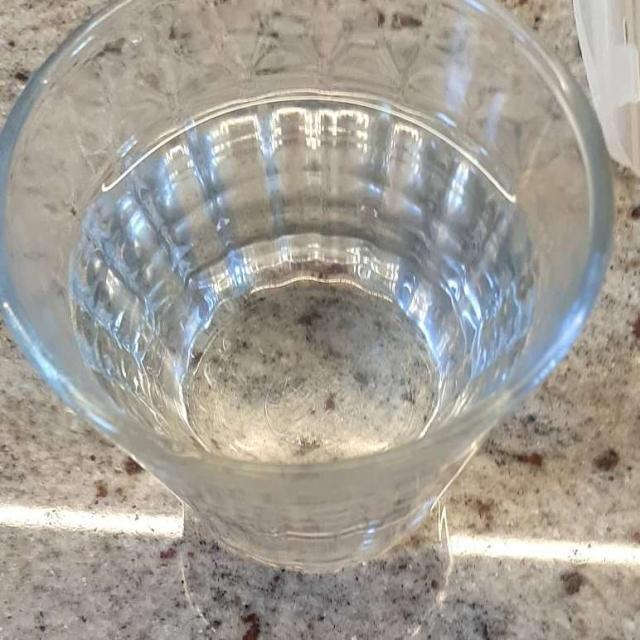water: (84, 102, 538, 459)
